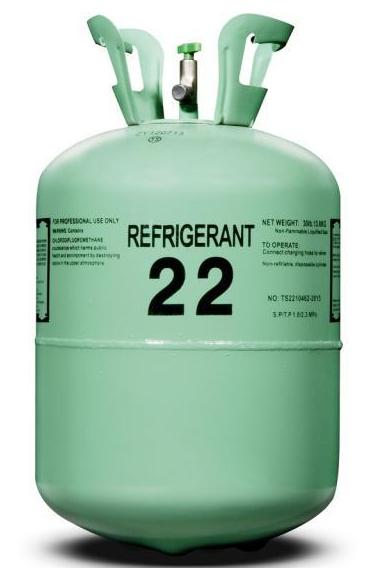cylinder: (1, 0, 385, 568)
